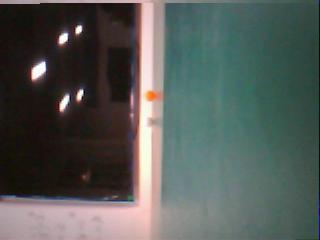oball: (144, 90, 156, 102)
